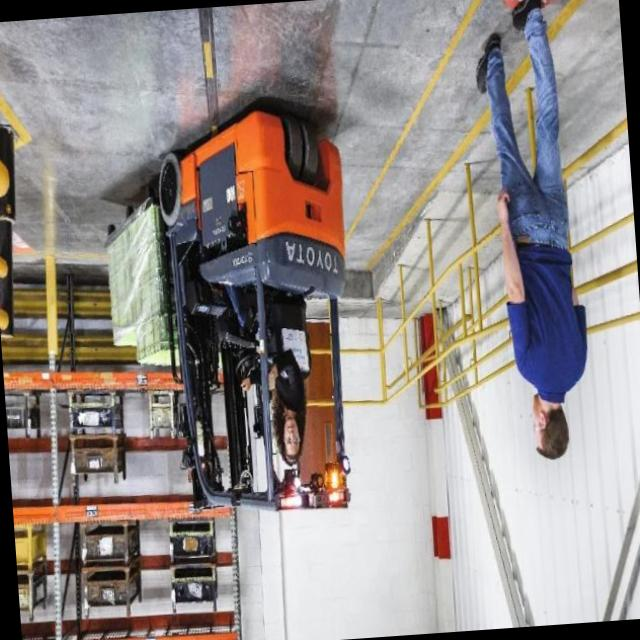driver: (226, 283, 313, 472)
forklift: (130, 87, 381, 540)
person: (467, 0, 596, 467)
